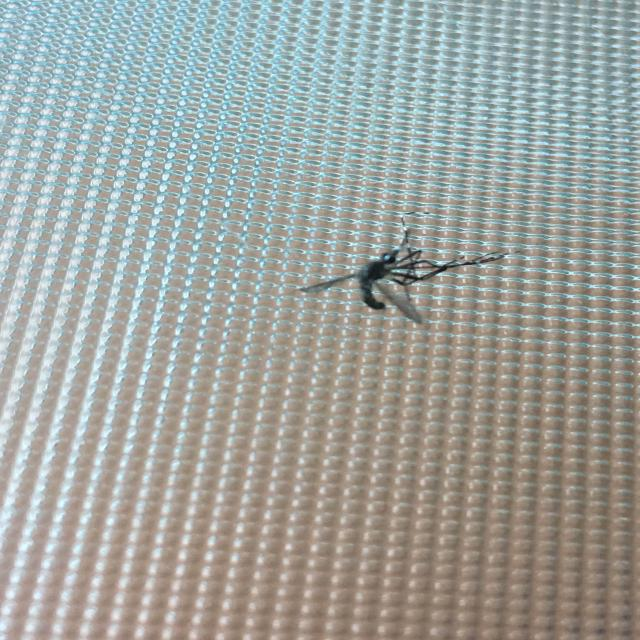albopictus: (296, 214, 518, 328)
